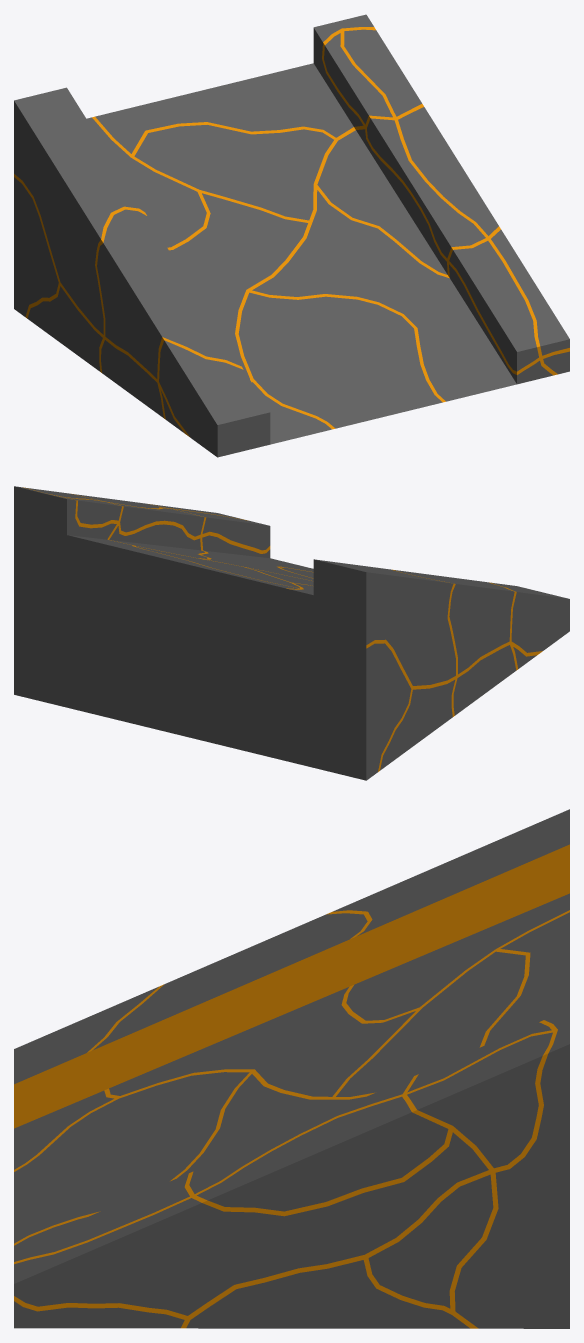
File: Rampe_Volcan.fbx
The picture shows the model from 3 angles, top to bottom: view 1: azimuth 30°, elevation 25°; view 2: azimuth 150°, elevation 25°; view 3: azimuth 270°, elevation 25°; orthographic projection. The views are drawn at different scales.
Parts seen in each view (by area): view 1: pCube122; view 2: pCube122; view 3: pCube122.
Boxes of the visible parts, x1,y1,x2,y2 form: pCube122: (14,14,569,457); pCube122: (14,486,569,780); pCube122: (14,809,569,1328).
Bounding box in the file's own units: 1 × 0.5654 × 1.
